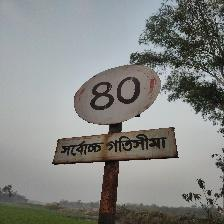Speed-limit: (53, 63, 176, 165)
